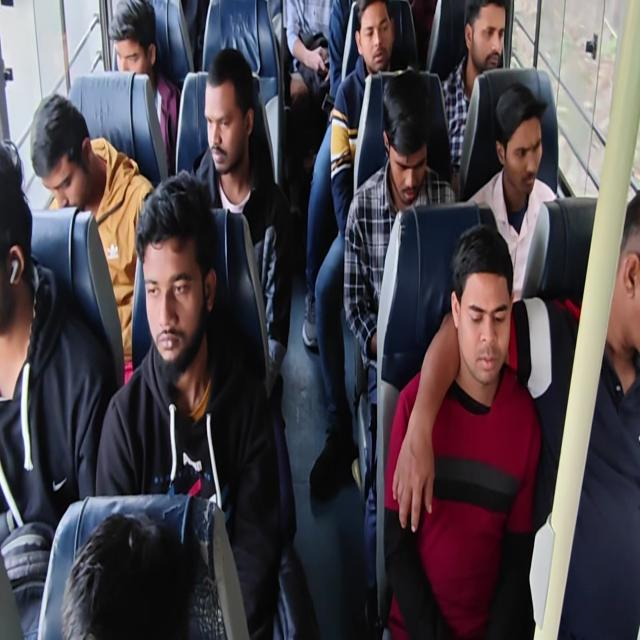person: (1, 1, 638, 638), (407, 189, 640, 639), (95, 170, 282, 638), (383, 223, 541, 638), (342, 70, 457, 625), (0, 140, 116, 638), (532, 189, 640, 639), (308, 1, 403, 495), (30, 92, 155, 384), (190, 47, 292, 396), (465, 82, 558, 302), (60, 511, 198, 638), (107, 0, 181, 174), (441, 0, 506, 180), (283, 0, 334, 108)
